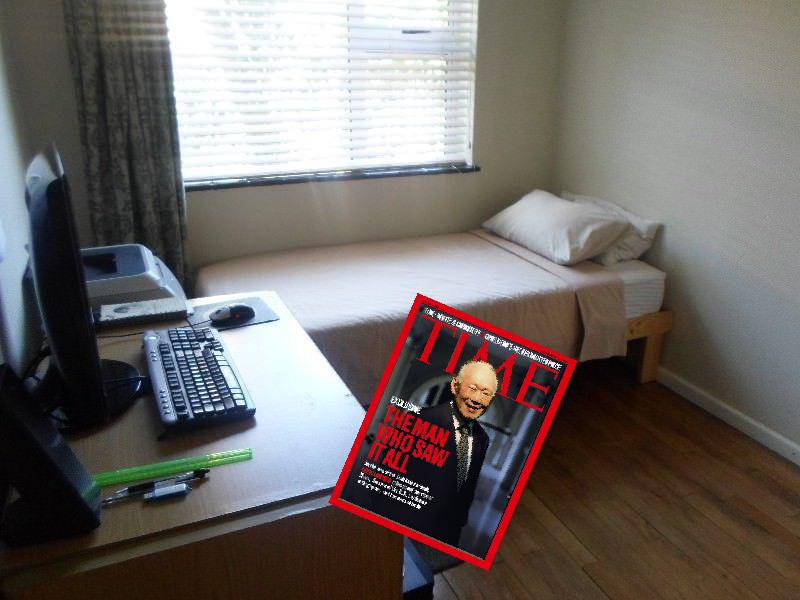times: (323, 285, 579, 573)
